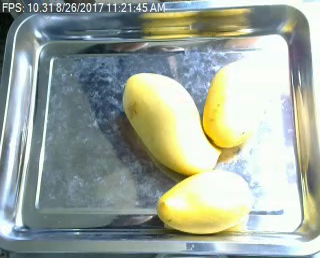Mango: (123, 72, 218, 172), (156, 169, 254, 234), (202, 59, 269, 146)
